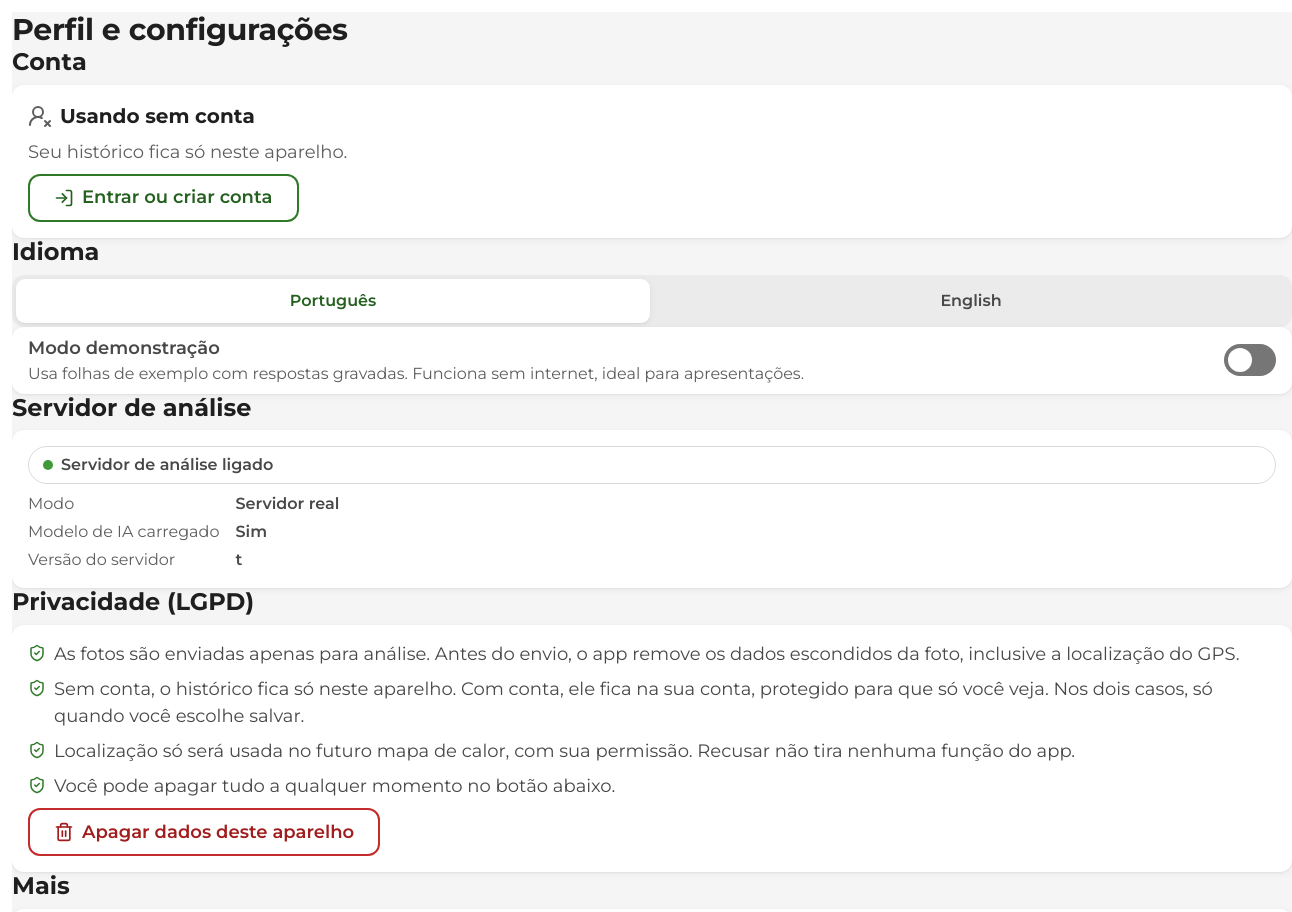
Test case: demais telas › perfil troca o idioma para inglês
This screenshot has width=1292, height=912.
Click the button "English": click(971, 301) [654,279,1288,323]
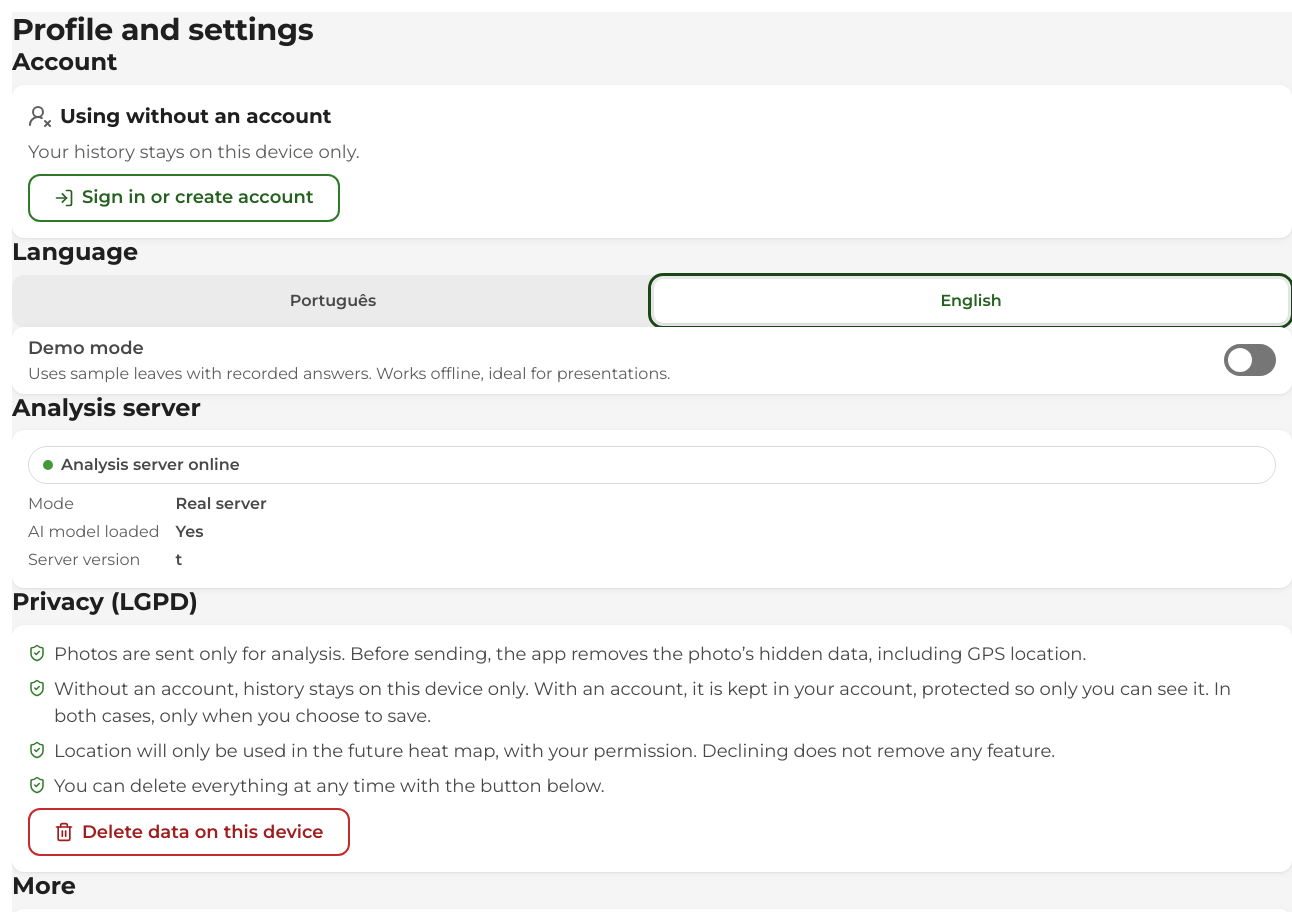
Expected: the heading "Profile and settings" is shown, [12,11,313,48]
